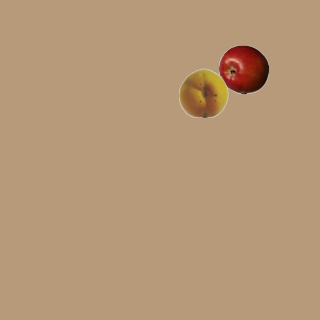Apple Braeburn: (218, 44, 268, 94)
Peach 2: (178, 67, 228, 117)
